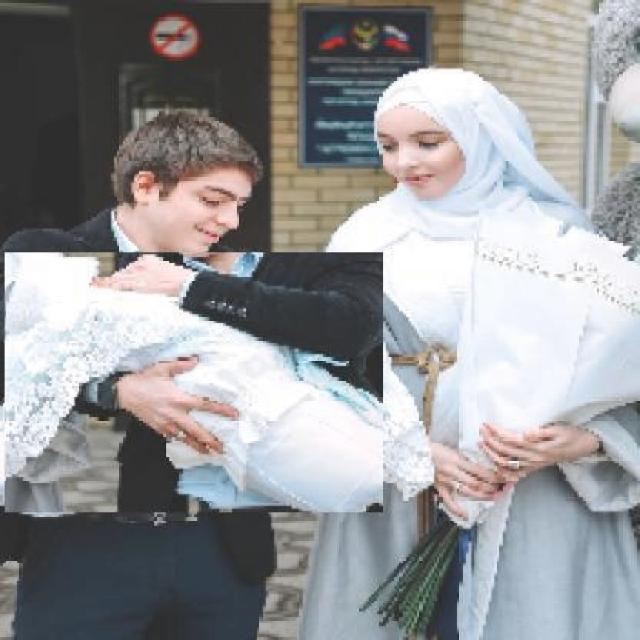child: (3, 252, 383, 514)
